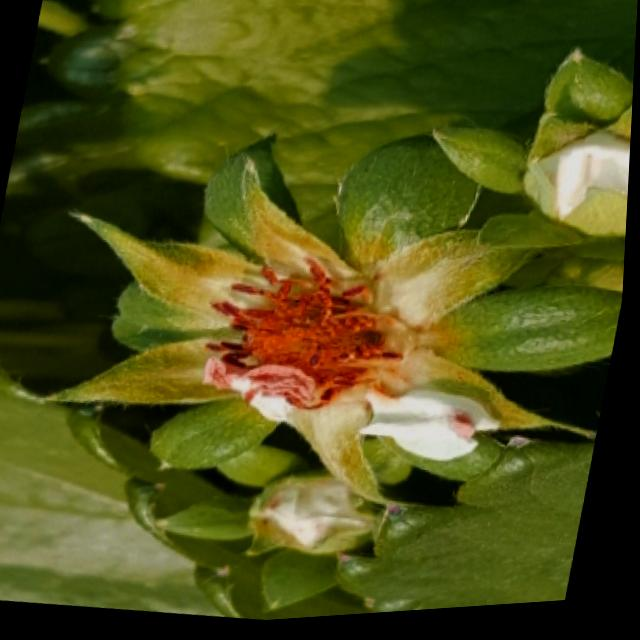Blossom Blight: (201, 251, 410, 420)
